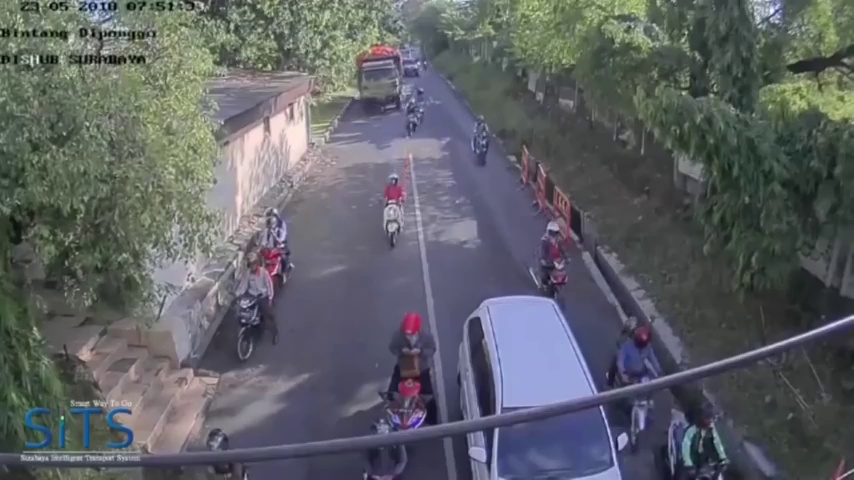car: (457, 294, 625, 479), (356, 47, 405, 113), (400, 57, 421, 78)
motorbike: (384, 316, 446, 449), (608, 313, 652, 452), (226, 254, 280, 362), (534, 216, 573, 313), (259, 209, 292, 289), (382, 173, 402, 249), (471, 113, 492, 169), (414, 87, 427, 128), (406, 99, 418, 139)
